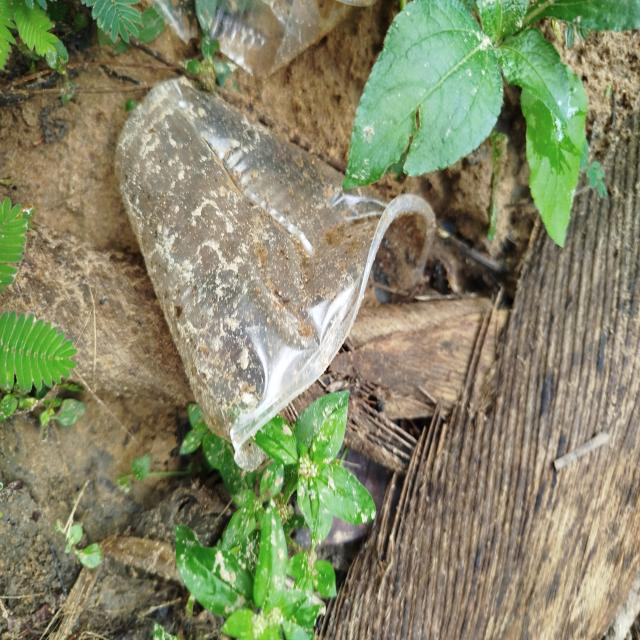plastic: (102, 59, 459, 445)
